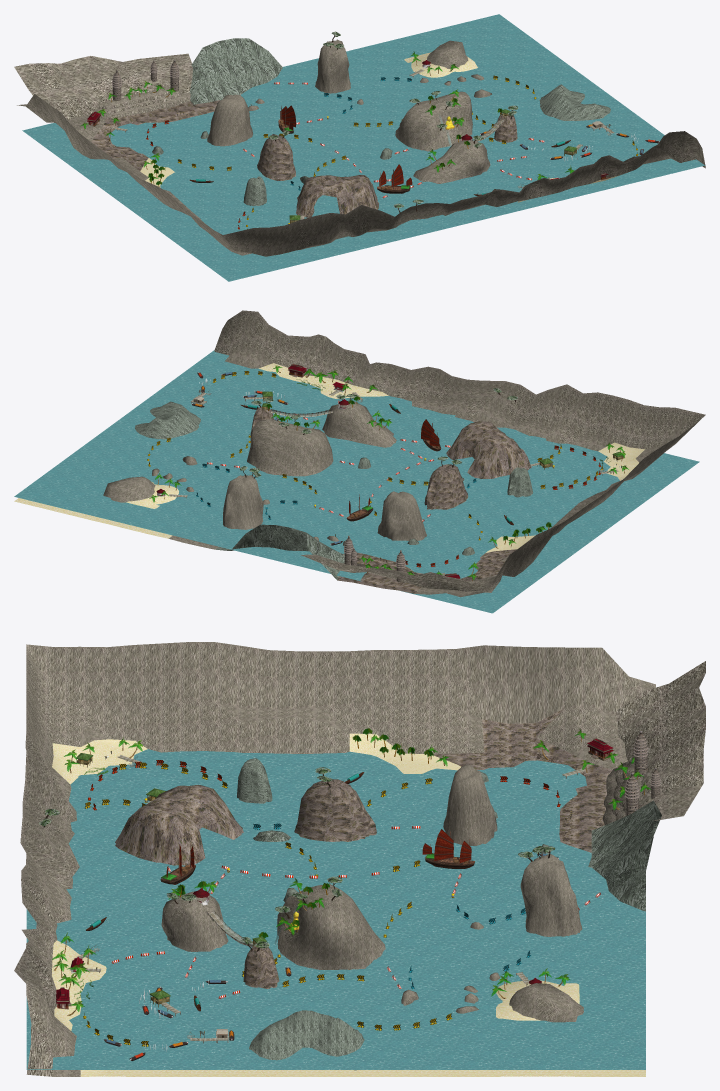
The model's file is Halong.glb.
3 views of the same model, one above another, from view 1: azimuth 30°, elevation 25°; view 2: azimuth 150°, elevation 25°; view 3: azimuth 270°, elevation 25° (orthographic). The views are drawn at different scales.
Parts seen in each view (by area): view 1: Untitled* (×12), Untitled** (×13), Untitled - copy*, rock1, Rox 2, Untitled, Roc Cascade, Roc 5, Rox 3, mont, Rox 1, Rox 4 (+10 smaller); view 2: Untitled* (×13), Untitled** (×13), Rox 2, Untitled, Roc Cascade, rock1, Roc 5, Rox 1, Rox 3, Untitled - copy*, mont, Rox 4 (+6 smaller); view 3: Untitled* (×15), Untitled** (×13), Untitled - copy*, Untitled, Rox 2, Roc Cascade, rock1, Rox 1, mont, Rox 4, Rox 3, plage2 (+11 smaller).
Boxes of the visible parts, <box> form: Untitled* (×12): <box>17,40,705,256</box>; Untitled** (×13): <box>166,14,651,281</box>; Untitled - copy*: <box>14,53,192,121</box>; rock1: <box>189,38,282,104</box>; Rox 2: <box>395,91,472,151</box>; Untitled: <box>174,77,321,139</box>; Roc Cascade: <box>296,175,379,217</box>; Roc 5: <box>413,140,490,183</box>; Rox 3: <box>207,94,252,146</box>; mont: <box>539,84,610,120</box>; Rox 1: <box>315,39,350,93</box>; Rox 4: <box>257,134,295,180</box>; Untitled* (×13): <box>122,310,705,613</box>; Untitled** (×13): <box>14,381,699,522</box>; Rox 2: <box>247,419,333,476</box>; Untitled: <box>246,514,422,581</box>; Roc Cascade: <box>446,421,531,478</box>; rock1: <box>215,524,344,580</box>; Roc 5: <box>322,401,396,447</box>; Rox 1: <box>223,475,263,529</box>; Rox 3: <box>377,491,426,540</box>; Untitled - copy*: <box>301,554,485,591</box>; mont: <box>135,401,200,439</box>; Rox 4: <box>424,464,468,509</box>; Untitled* (×15): <box>14,642,655,1076</box>; Untitled** (×13): <box>26,749,645,1069</box>; Untitled - copy*: <box>615,661,705,820</box>; Untitled: <box>484,811,619,900</box>; Rox 2: <box>277,883,385,969</box>; Roc Cascade: <box>115,785,243,865</box>; rock1: <box>588,800,661,911</box>; Rox 1: <box>520,854,582,936</box>; mont: <box>249,1010,364,1070</box>; Rox 4: <box>294,779,376,841</box>; Rox 3: <box>443,764,497,845</box>; plage2: <box>433,708,564,769</box>.
Size of the model in its own units: 324 by 40.83 by 268.
34 materials, 33 textured.
